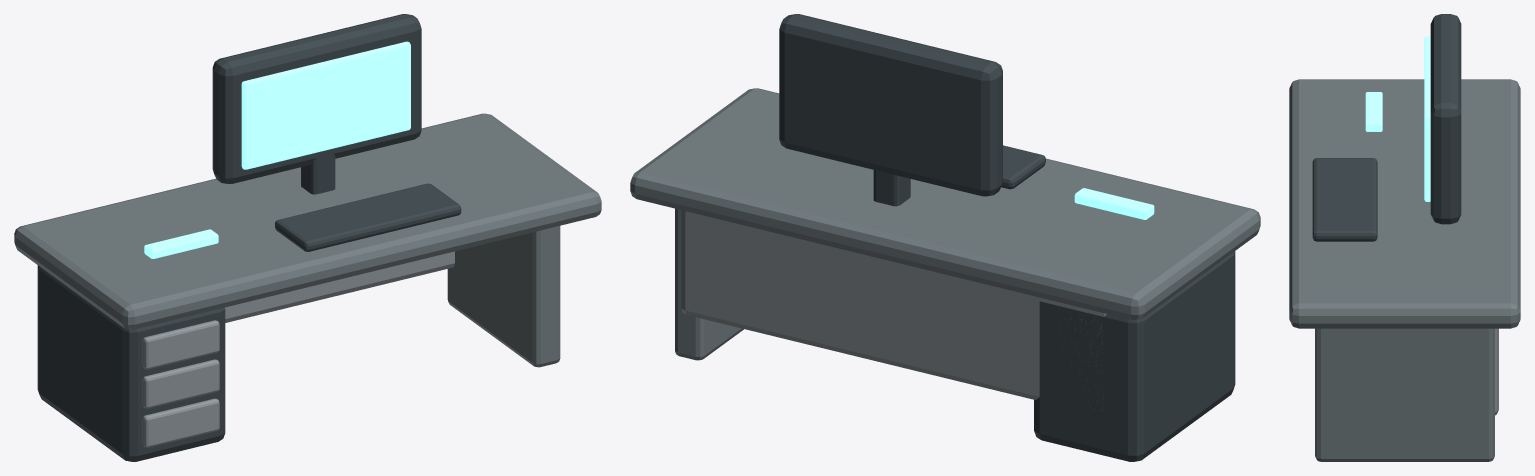
File: OfficeDesk_A.fbx
3 views of the same model, side by side, from view 1: azimuth 30°, elevation 25°; view 2: azimuth 150°, elevation 25°; view 3: azimuth 270°, elevation 25° (orthographic). The views are drawn at different scales.
Parts seen in each view (by area): view 1: Desk Worktop, Desk Left Cabinet, Desk Monitor Screen, Desk Monitor, Desk Right Leg, Desk Keyboard, Desk Modesty Panel, Desk Drawer.002, Desk Drawer, Desk Drawer.001, Desk Task Light, Desk Monitor Stand; view 2: Desk Worktop, Desk Modesty Panel, Desk Monitor, Desk Left Cabinet, Desk Right Leg, Desk Task Light, Desk Keyboard, Desk Monitor Stand; view 3: Desk Worktop, Desk Right Leg, Desk Monitor, Desk Keyboard, Desk Monitor Screen, Desk Task Light, Desk Modesty Panel.
Part boxes in pixels (left/top/right/bottom): Desk Worktop: left=14, top=113, right=601, bottom=329; Desk Left Cabinet: left=37, top=265, right=225, bottom=461; Desk Monitor Screen: left=241, top=41, right=410, bottom=169; Desk Monitor: left=212, top=14, right=421, bottom=183; Desk Right Leg: left=447, top=226, right=560, bottom=367; Desk Keyboard: left=275, top=183, right=461, bottom=251; Desk Modesty Panel: left=225, top=251, right=454, bottom=322; Desk Drawer.002: left=142, top=320, right=219, bottom=369; Desk Drawer: left=142, top=398, right=219, bottom=447; Desk Drawer.001: left=142, top=359, right=219, bottom=408; Desk Task Light: left=144, top=229, right=218, bottom=258; Desk Monitor Stand: left=301, top=148, right=335, bottom=194; Desk Worktop: left=630, top=88, right=1260, bottom=320; Desk Modesty Panel: left=681, top=210, right=1106, bottom=410; Desk Monitor: left=779, top=14, right=1002, bottom=196; Desk Left Cabinet: left=1034, top=251, right=1235, bottom=461; Desk Right Leg: left=675, top=208, right=743, bottom=360; Desk Task Light: left=1074, top=188, right=1154, bottom=219; Desk Keyboard: left=1001, top=145, right=1045, bottom=189; Desk Monitor Stand: left=873, top=170, right=910, bottom=206; Desk Worktop: left=1289, top=79, right=1520, bottom=328; Desk Right Leg: left=1315, top=328, right=1494, bottom=461; Desk Monitor: left=1430, top=14, right=1461, bottom=224; Desk Keyboard: left=1312, top=158, right=1377, bottom=241; Desk Monitor Screen: left=1424, top=36, right=1430, bottom=201; Desk Task Light: left=1365, top=92, right=1382, bottom=131; Desk Modesty Panel: left=1495, top=328, right=1498, bottom=415.
Bounding box in the file's own units: 3.2 × 2.06 × 1.35.
